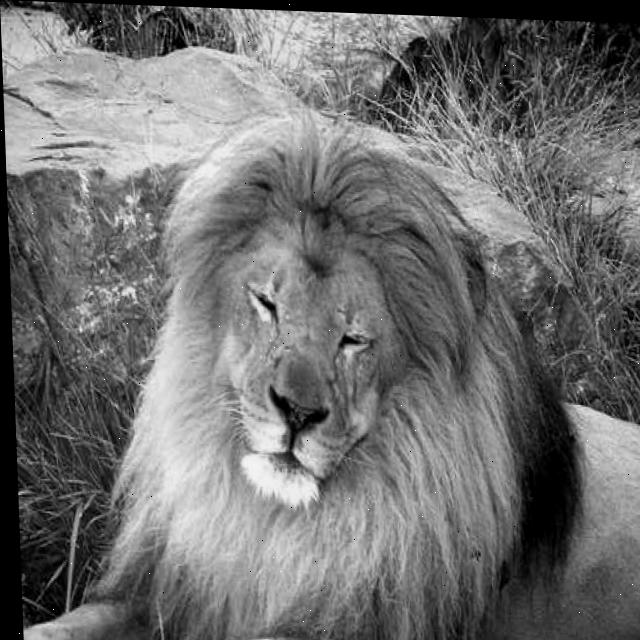Lion: (88, 56, 618, 640)
